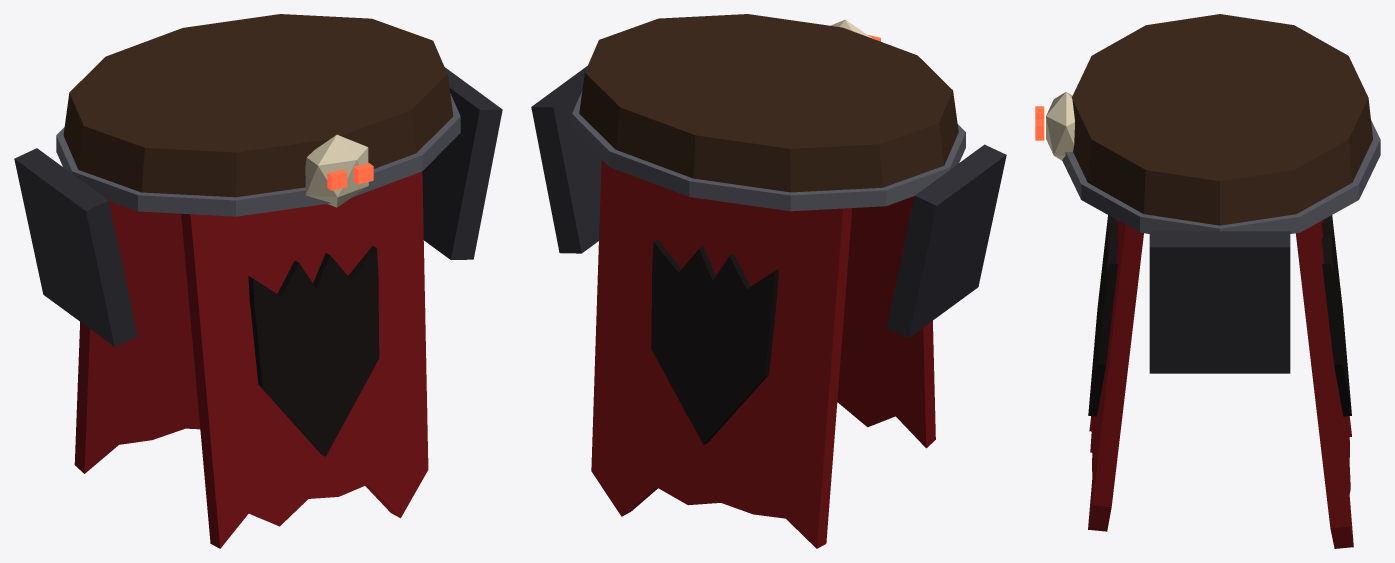
The model's file is Boss_Knight_Tabard.fbx.
3 views of the same model, side by side, from view 1: azimuth 30°, elevation 25°; view 2: azimuth 150°, elevation 25°; view 3: azimuth 270°, elevation 25° (orthographic). The views are drawn at different scales.
Parts seen in each view (by area): view 1: Boss_Knight_Tabard; view 2: Boss_Knight_Tabard; view 3: Boss_Knight_Tabard.
Boxes of the visible parts, bbox=[...] form: Boss_Knight_Tabard: bbox=[14, 14, 502, 548]; Boss_Knight_Tabard: bbox=[531, 14, 1006, 548]; Boss_Knight_Tabard: bbox=[1035, 14, 1380, 548].
Size of the model in its own units: 0.5368 by 0.5239 by 0.3924.
